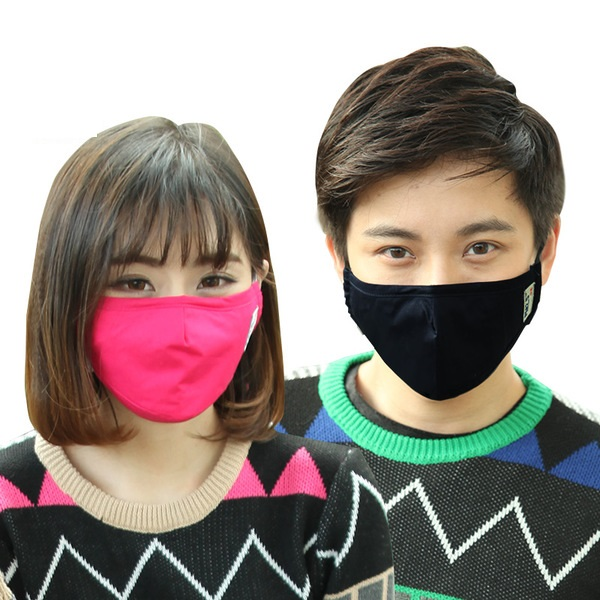face_mask: (344, 160, 533, 387), (77, 200, 257, 416)
